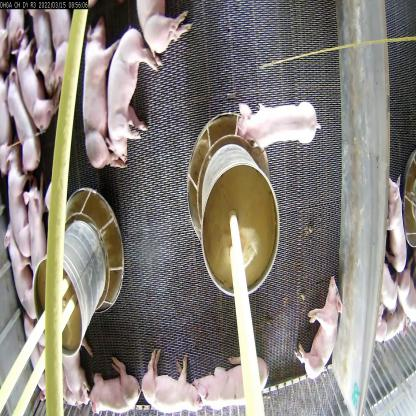Pig: (105, 25, 149, 166), (82, 18, 117, 172), (233, 94, 321, 152), (296, 276, 342, 384), (12, 33, 56, 134), (193, 356, 271, 410), (1, 219, 42, 319), (141, 348, 201, 415), (6, 69, 42, 174), (6, 142, 35, 268), (84, 353, 141, 415), (380, 169, 410, 275), (135, 0, 193, 53), (23, 180, 52, 280), (28, 6, 59, 97), (18, 312, 46, 402), (47, 5, 76, 89), (56, 342, 92, 408)
